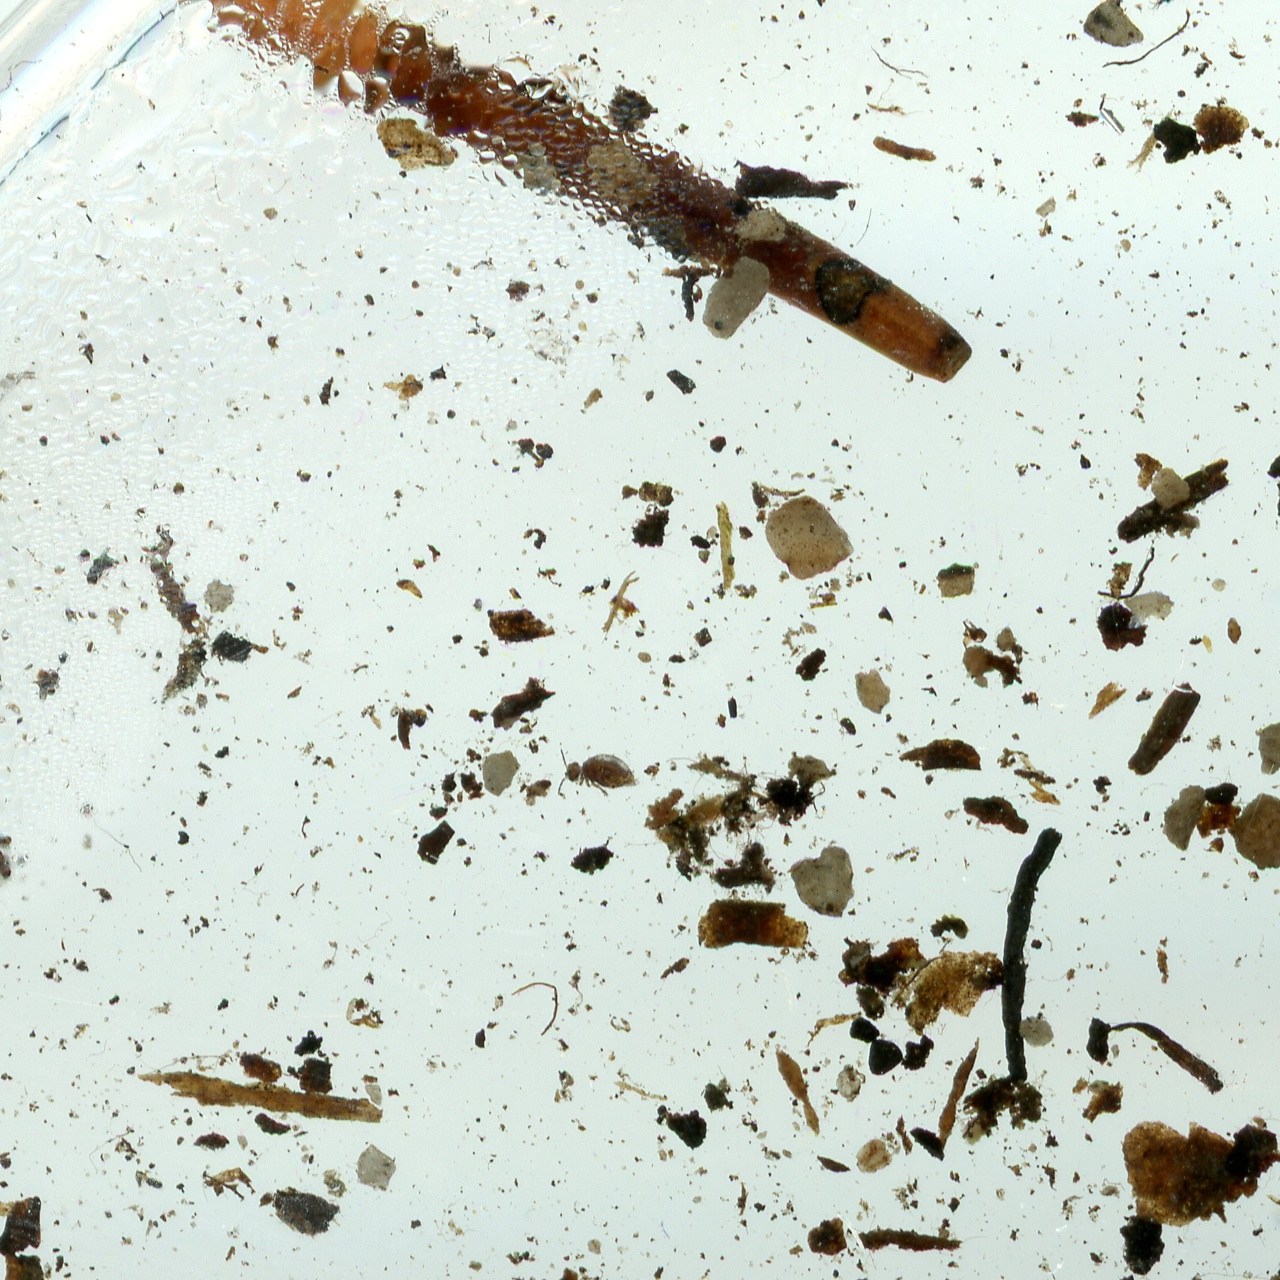arthropod: (556, 745, 638, 802)
